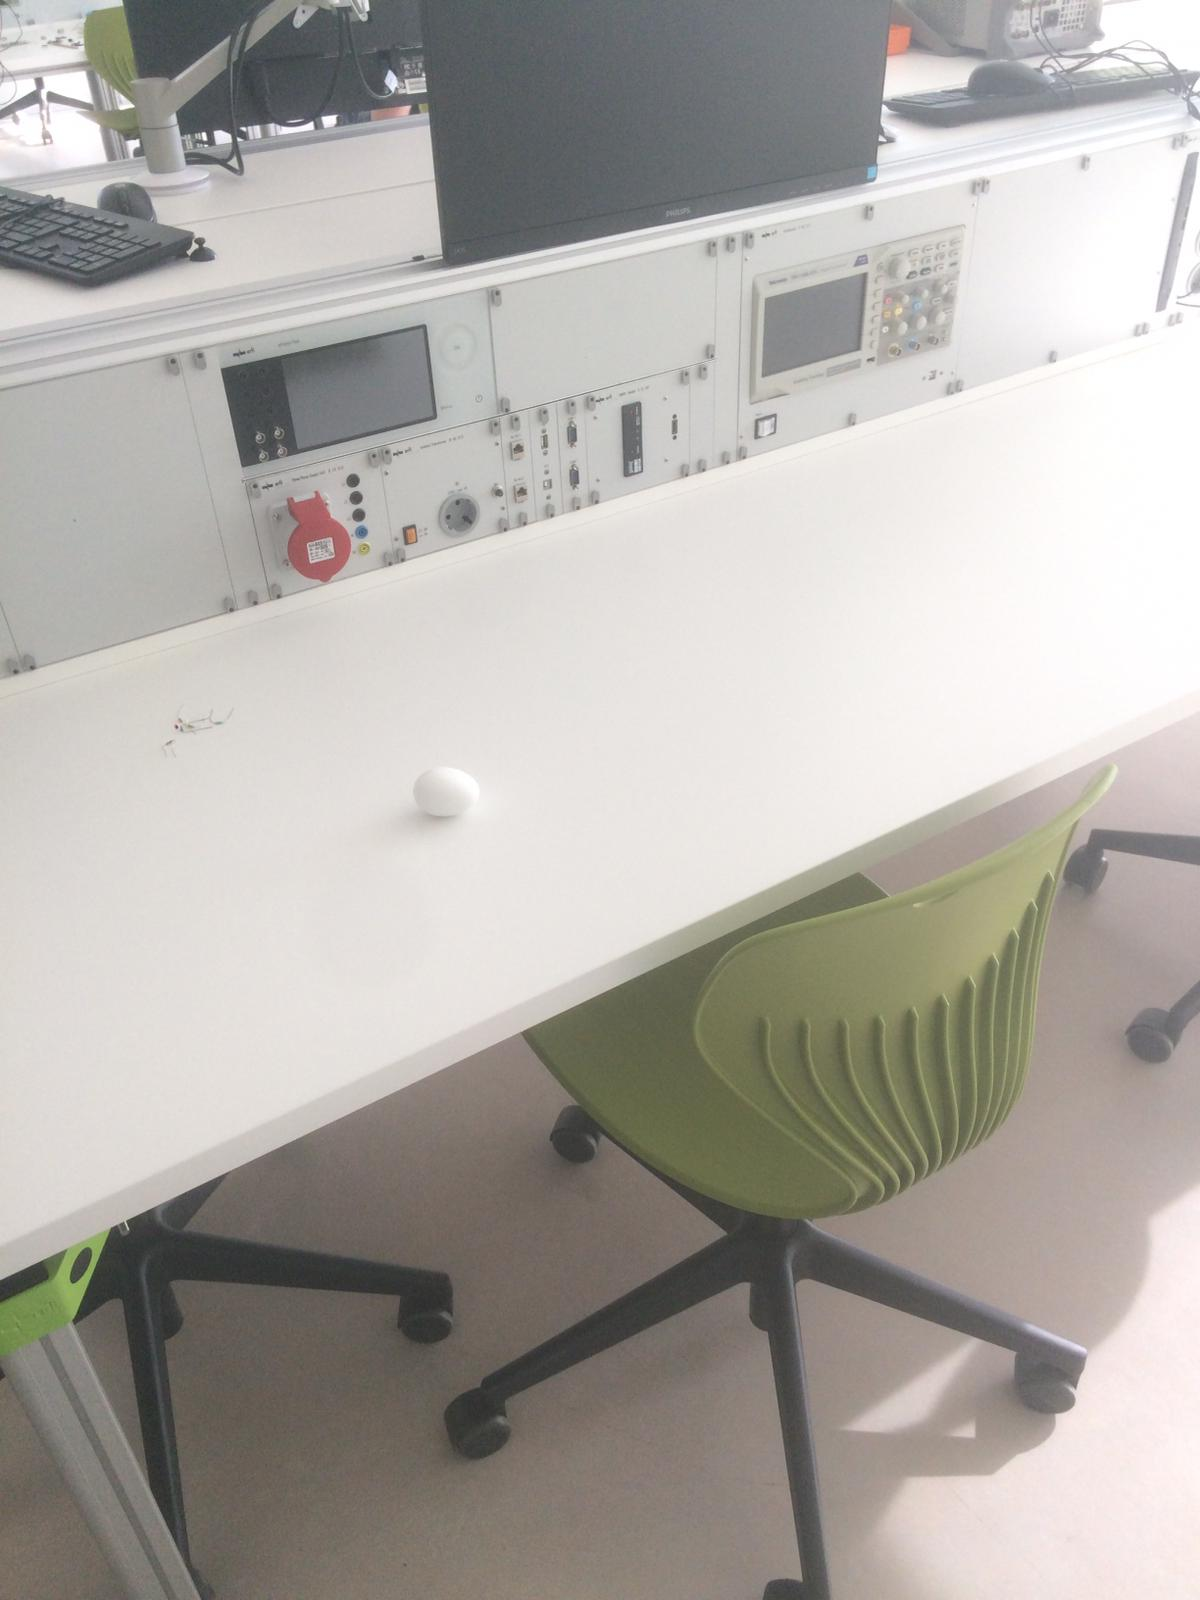egg: (407, 760, 487, 830)
